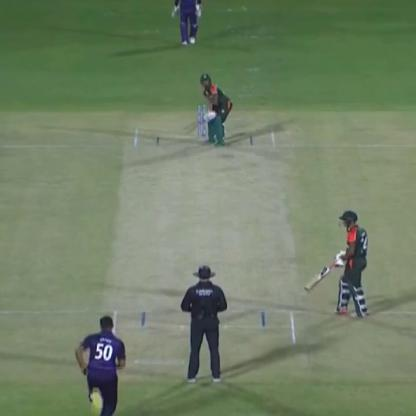bat: (294, 264, 342, 297), (184, 111, 214, 136)
pitch: (102, 130, 305, 349)
